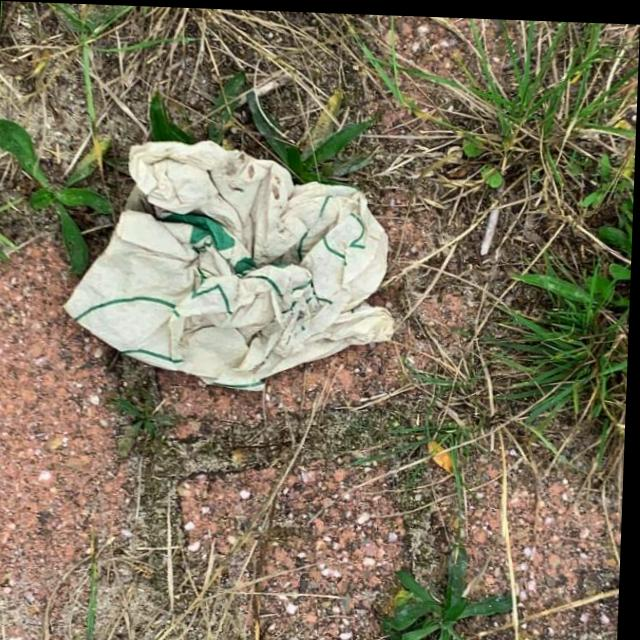Paper: (59, 132, 402, 395)
